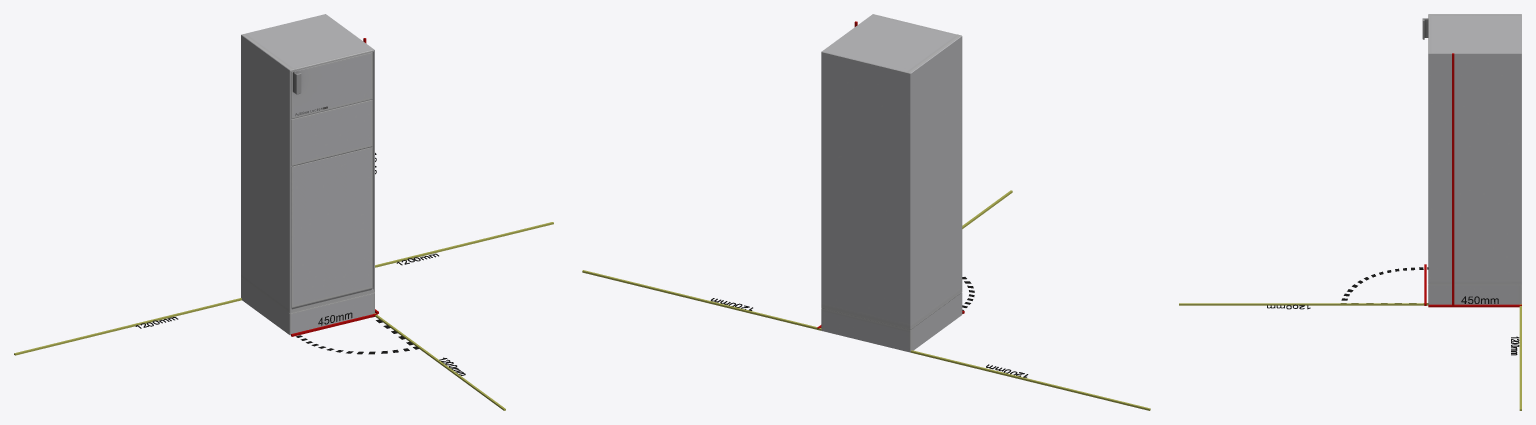
The model's file is lockerhome.gltf.
3 views of the same model, side by side, from view 1: azimuth 30°, elevation 25°; view 2: azimuth 150°, elevation 25°; view 3: azimuth 270°, elevation 25° (orthographic). The views are drawn at different scales.
Parts seen in each view (by area): view 1: defaultGroup1, defaultGroup2; view 2: defaultGroup1, defaultGroup2; view 3: defaultGroup1, defaultGroup2.
Part boxes in pixels (x1=…): defaultGroup1: x1=241, y1=14, x2=374, y2=335; defaultGroup2: x1=14, y1=38, x2=553, y2=410; defaultGroup1: x1=821, y1=14, x2=962, y2=352; defaultGroup2: x1=582, y1=21, x2=1150, y2=410; defaultGroup1: x1=1422, y1=14, x2=1521, y2=304; defaultGroup2: x1=1179, y1=53, x2=1521, y2=410.
Size of the model in its own units: 2.85 by 1.34 by 1.65.
1 material, 1 textured.
